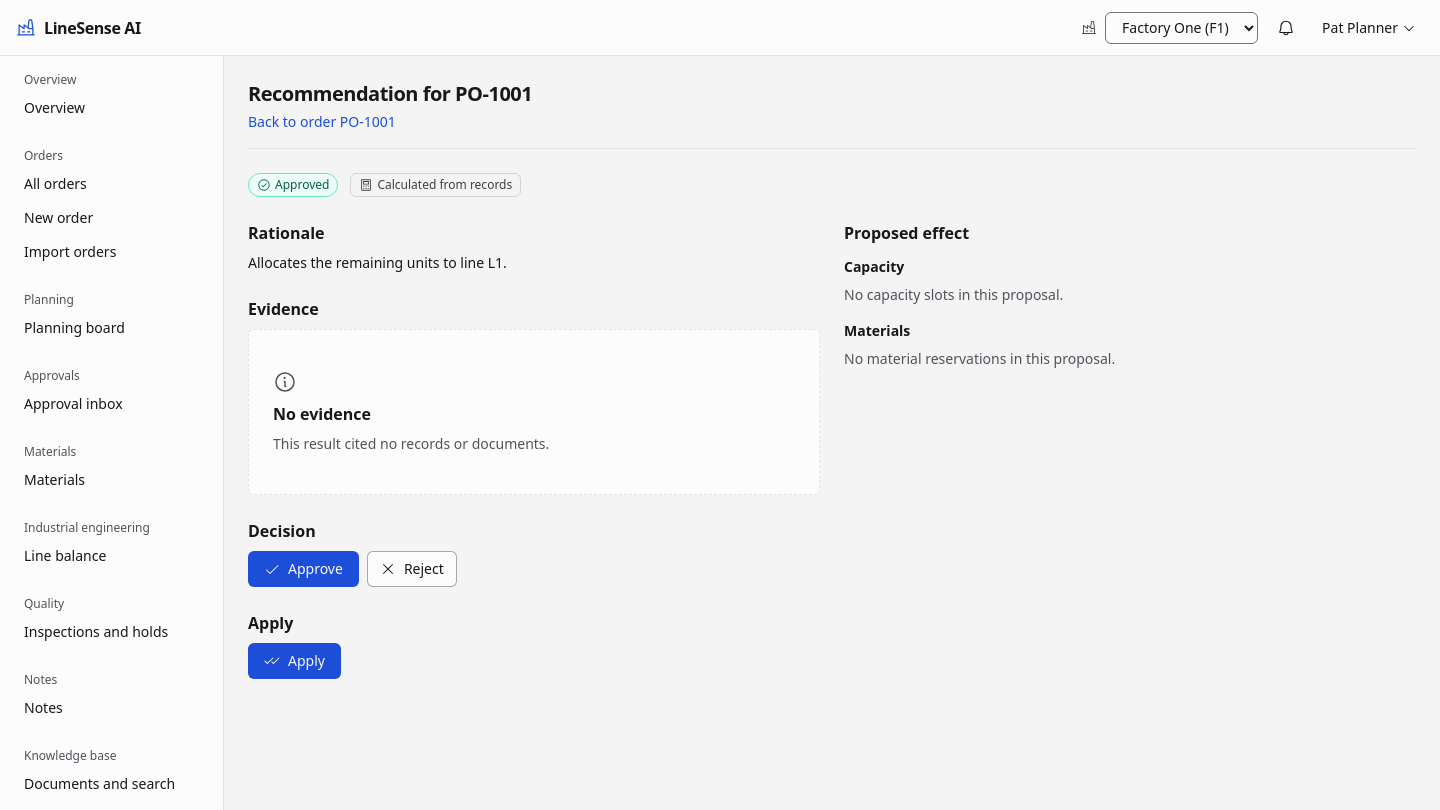
RecommendationPage › sends Idempotency-Key and proposal_hash on apply, and disables the button while pending
Click the button "Apply": (294,661) [248, 643, 341, 679]
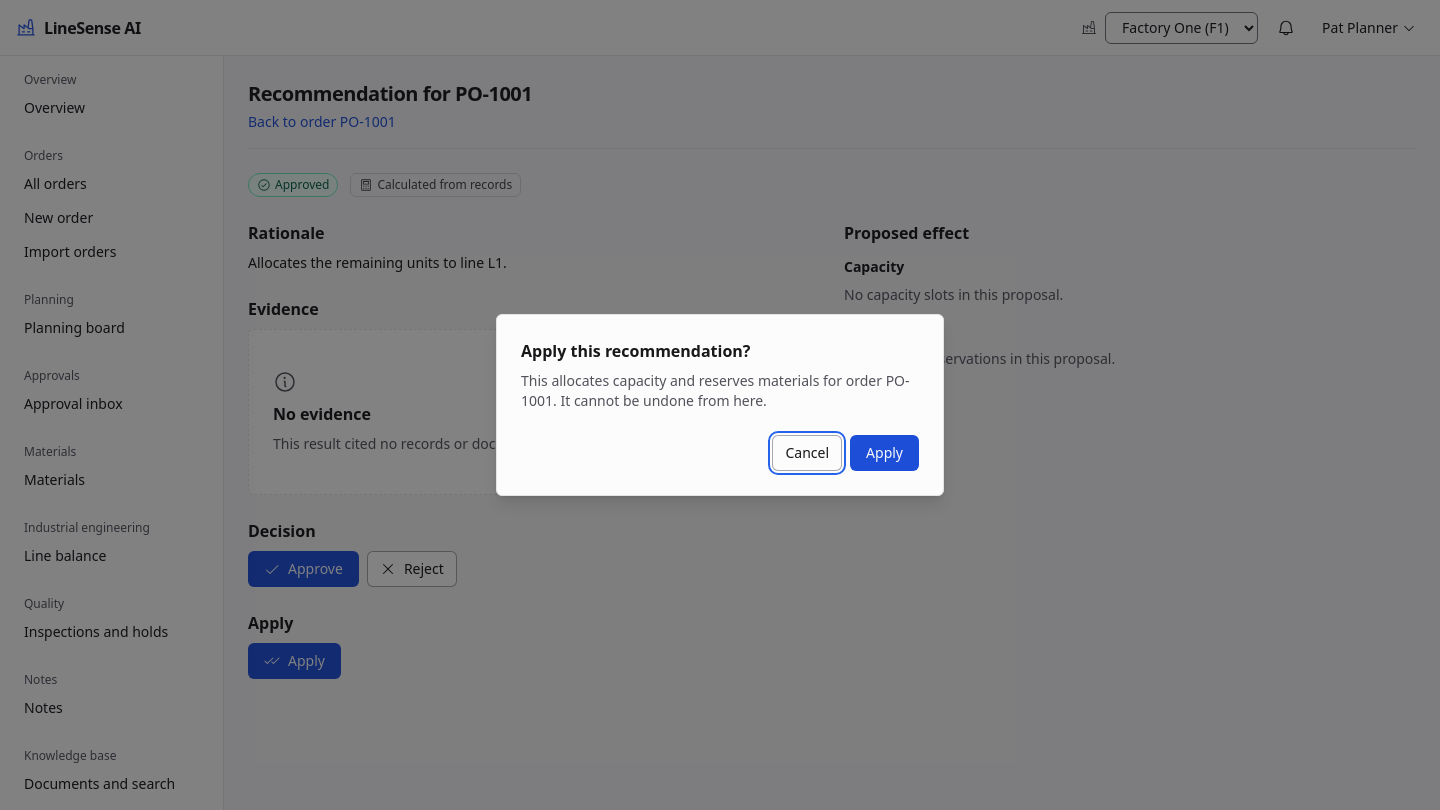
Click the button "Apply": (885,453) [850, 435, 919, 471]
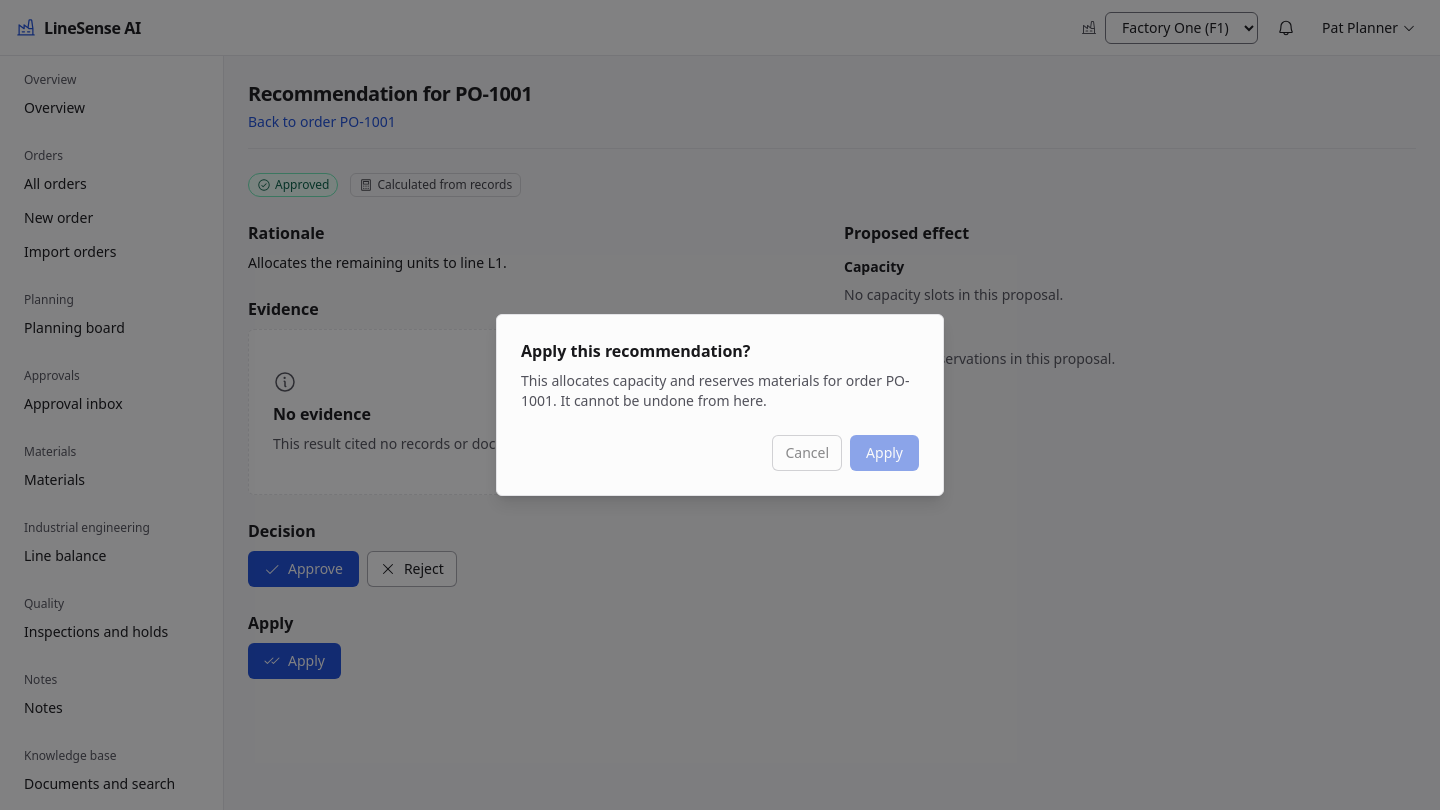
Expected: the button "Apply" is disabled, [850, 435, 919, 471]
